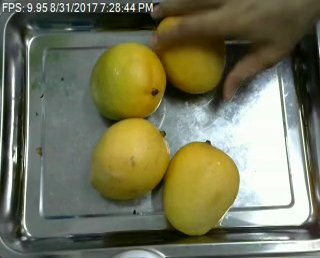Mango: (162, 142, 241, 236), (90, 119, 169, 201), (88, 41, 166, 119), (161, 38, 226, 92)
